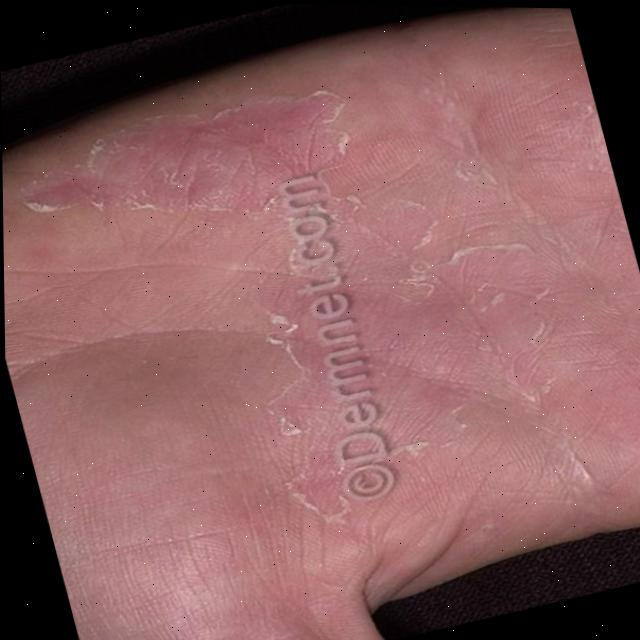Eczema: (0, 8, 640, 610)
